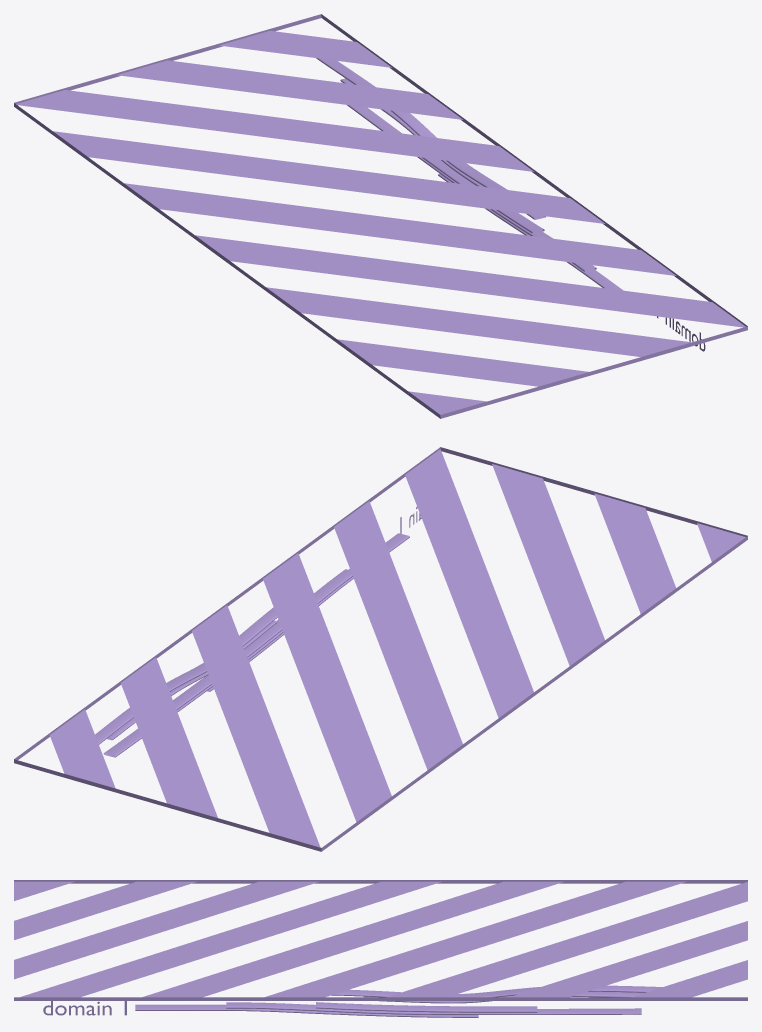
File: Domain 01.glb
3 views of the same model, one above another, from view 1: azimuth 30°, elevation 25°; view 2: azimuth 150°, elevation 25°; view 3: azimuth 270°, elevation 25° (orthographic). The views are drawn at different scales.
Parts seen in each view (by area): view 1: Plane.003, Plane.002, BézierCurve; view 2: Plane.003, Plane.002, BézierCurve; view 3: Plane.003, BézierCurve, Plane.002, Domain 1.002.
Boxes of the visible parts, box(x1,y1,x2,y2) form: Plane.003: box(16, 30, 745, 414); Plane.002: box(14, 14, 747, 418); BézierCurve: box(316, 58, 623, 290); Plane.003: box(49, 449, 745, 847); Plane.002: box(14, 447, 747, 851); BézierCurve: box(95, 533, 409, 757); Plane.003: box(14, 881, 747, 997); BézierCurve: box(135, 985, 662, 1017); Plane.002: box(14, 880, 747, 1000); Domain 1.002: box(43, 1001, 126, 1015).
Bounding box in the file's own units: 0.0608 × 0.00714 × 0.1459.
